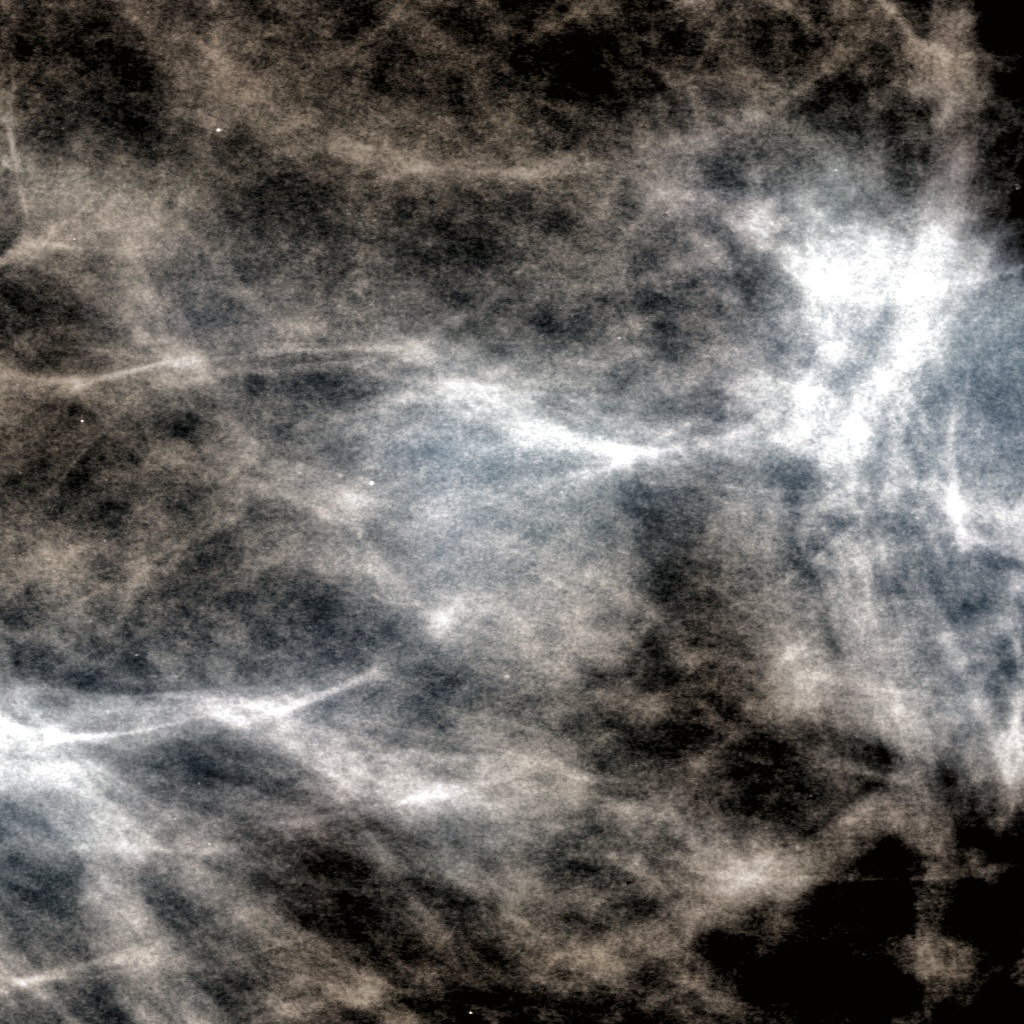tumor: (337, 337, 687, 687)
